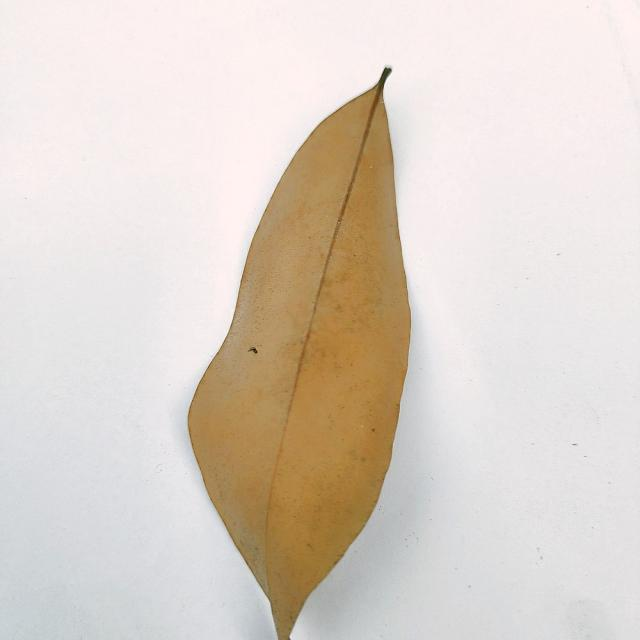Dry_Leaf-Lychee: (187, 71, 413, 639)
